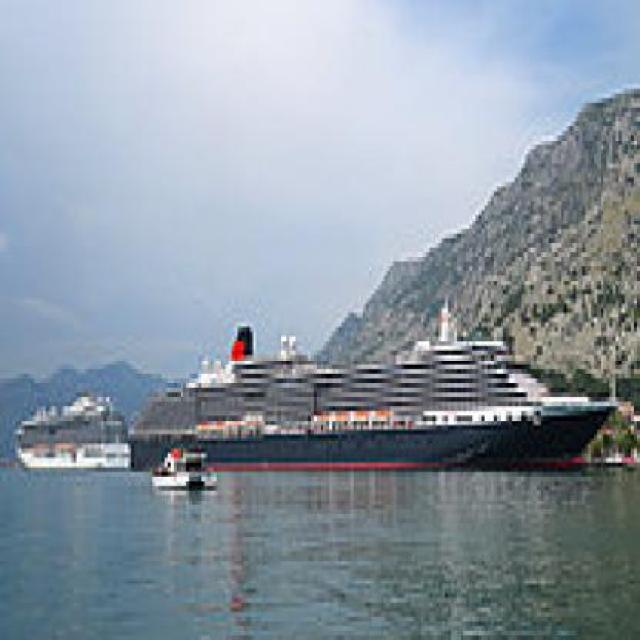cruise: (126, 290, 632, 501)
